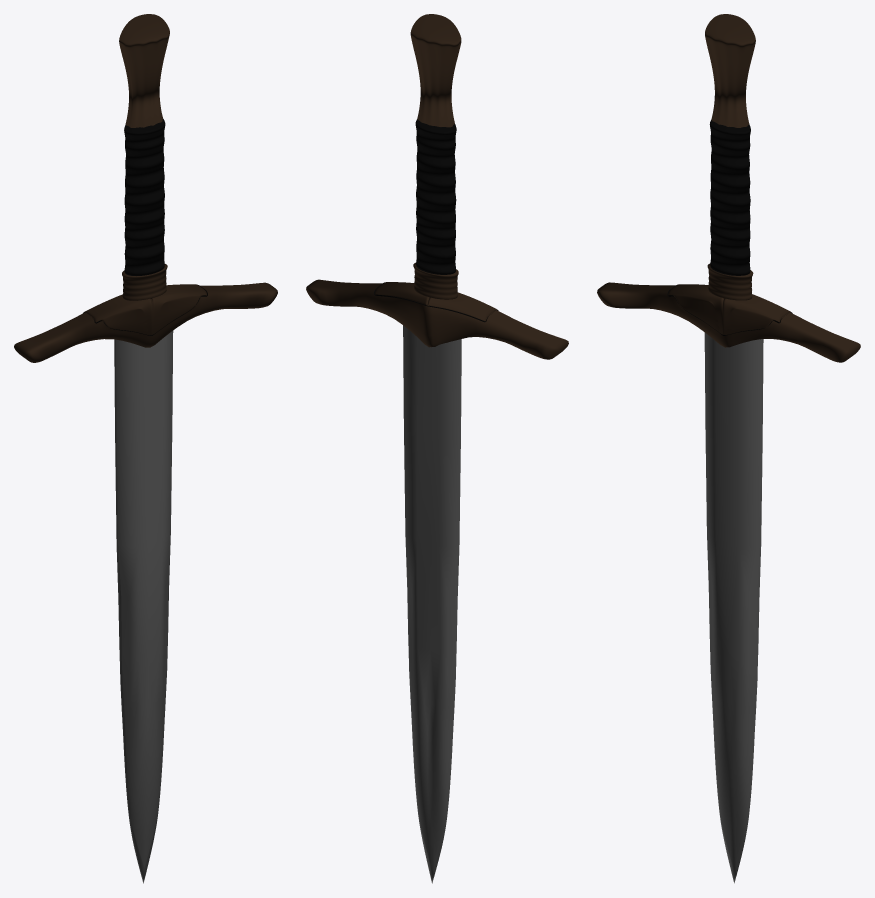
The model's file is dagger.obj.
The picture shows the model from 3 angles, left to right: view 1: azimuth 30°, elevation 25°; view 2: azimuth 150°, elevation 25°; view 3: azimuth 330°, elevation 25°; orthographic projection.
Visible parts, largest first — view 1: dagger_blade, dagger_grip, dagger_guard, dagger_pommle, Object001, Cylinder001; view 2: dagger_blade, dagger_guard, dagger_grip, dagger_pommle, Object001, Cylinder001; view 3: dagger_blade, dagger_grip, dagger_guard, dagger_pommle, Object001, Cylinder001.
Boxes of the visible parts, box(x1,y1,x2,y2) form: dagger_blade: box(114, 331, 173, 883); dagger_grip: box(124, 119, 165, 275); dagger_guard: box(14, 282, 277, 362); dagger_pommle: box(119, 14, 169, 127); Object001: box(84, 284, 207, 335); Cylinder001: box(122, 264, 167, 300); dagger_blade: box(403, 325, 461, 883); dagger_guard: box(306, 279, 568, 359); dagger_grip: box(415, 119, 456, 274); dagger_pommle: box(410, 14, 461, 127); Object001: box(374, 282, 497, 321); Cylinder001: box(413, 262, 458, 299); dagger_blade: box(704, 332, 763, 883); dagger_grip: box(709, 120, 750, 275); dagger_guard: box(597, 282, 860, 362); dagger_pommle: box(705, 14, 755, 127); Object001: box(668, 284, 790, 334); Cylinder001: box(707, 263, 753, 300).
Size of the model in its own units: 37.53 by 122 by 4.21.
